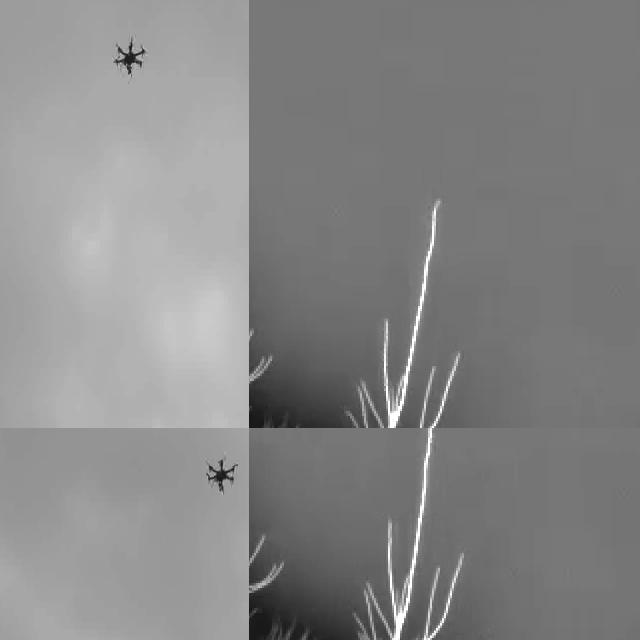drone: (202, 451, 239, 502), (110, 35, 147, 81)
